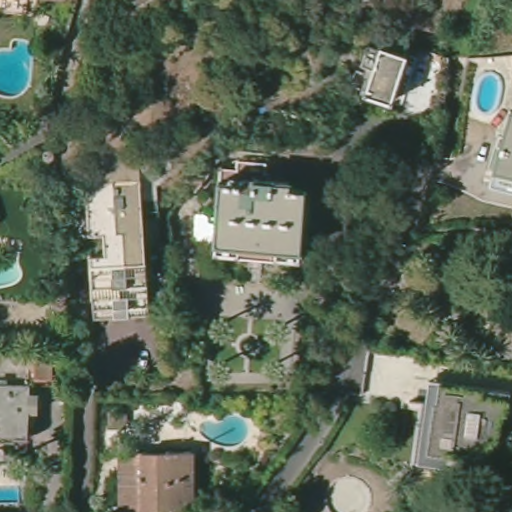pool: (1, 37, 36, 100), (201, 414, 252, 446), (1, 239, 27, 293), (476, 69, 502, 118), (1, 483, 25, 504)
